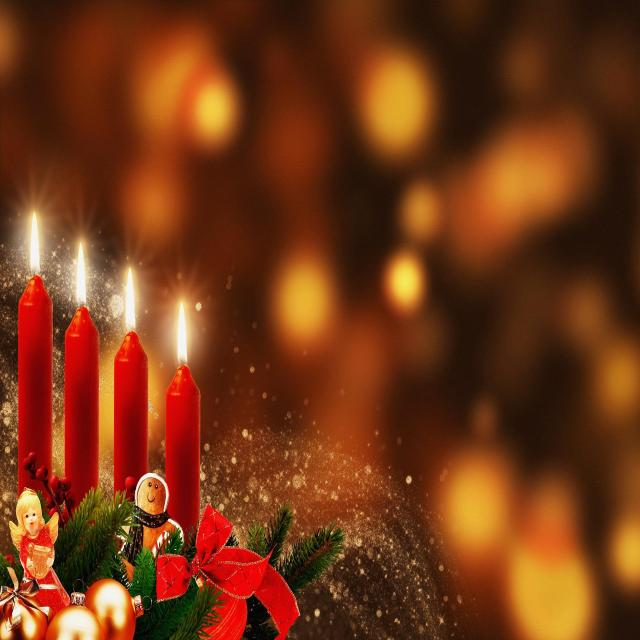Fire_Save: (16, 210, 54, 499), (63, 241, 100, 524), (164, 299, 201, 544), (112, 265, 149, 508)
